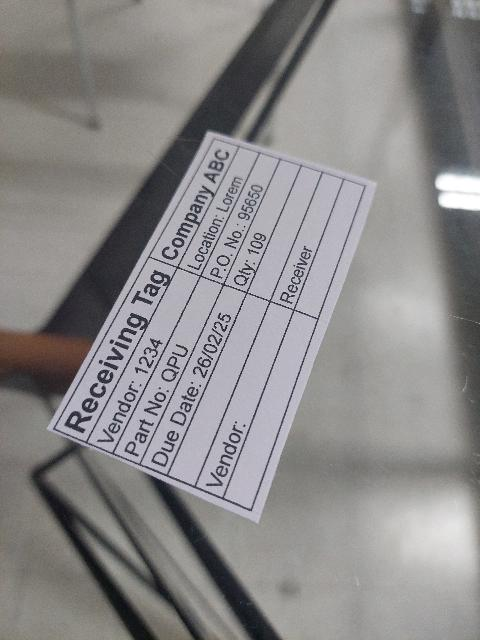PO no: (200, 153, 280, 285)
part no: (113, 275, 223, 464)
qty: (224, 158, 302, 293)
tags: (47, 130, 378, 525)
